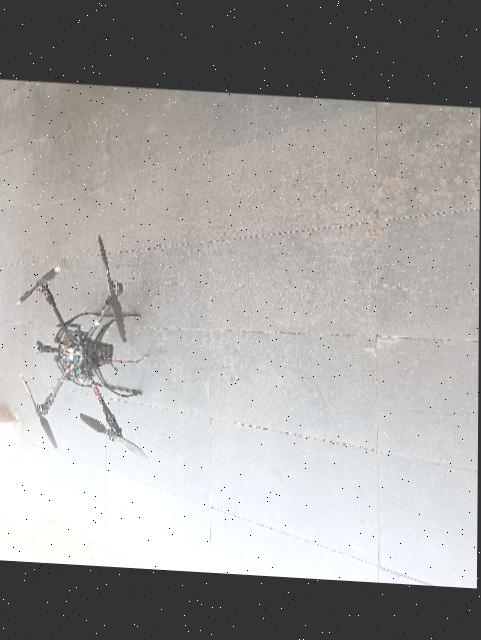drone: (3, 210, 168, 475)
